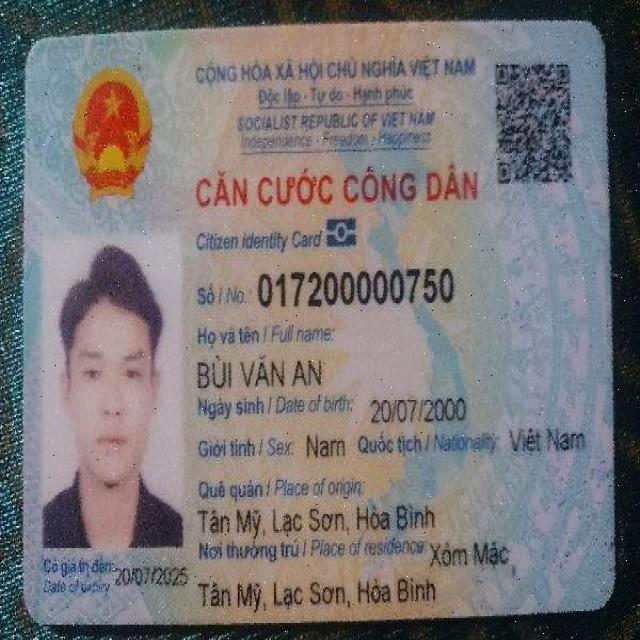current_place: (198, 573, 438, 615), (428, 540, 509, 577)
dob: (364, 394, 469, 425)
expire_date: (113, 558, 188, 591)
gender: (297, 422, 353, 458)
id: (255, 268, 455, 309)
name: (196, 350, 323, 392)
nationality: (507, 415, 587, 460)
origin_place: (200, 502, 437, 540)
